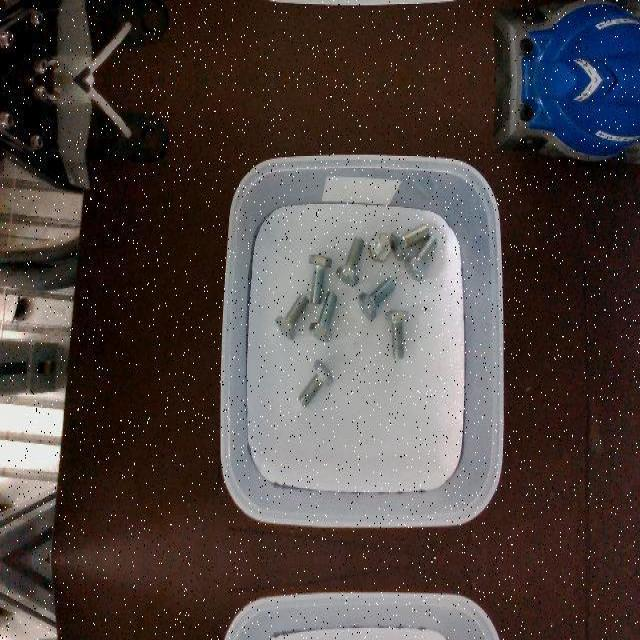screw: (299, 359, 333, 407), (358, 276, 395, 320), (404, 233, 438, 279), (275, 293, 308, 339), (309, 290, 338, 342), (391, 223, 429, 261), (336, 235, 364, 285), (385, 308, 410, 360), (309, 253, 332, 303), (369, 231, 392, 261)
